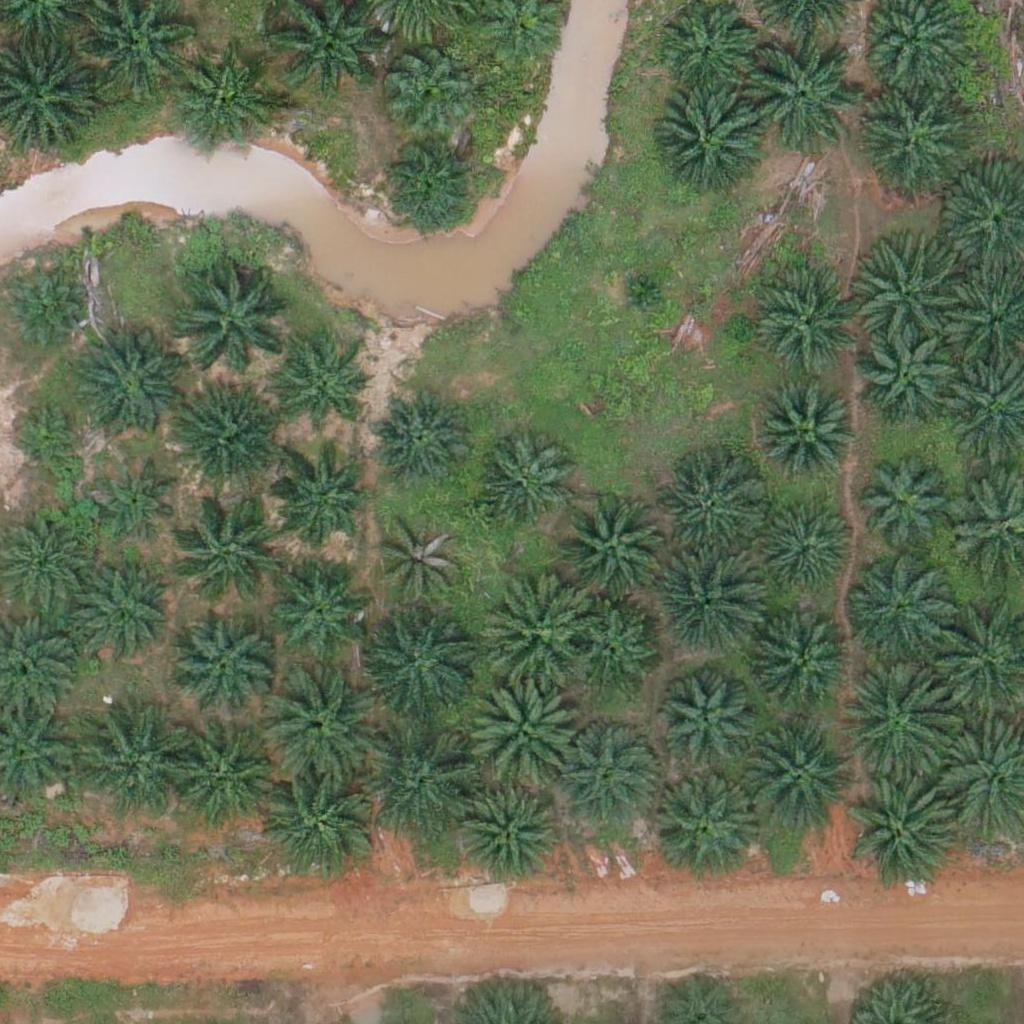Kelapa_Sawit: (836, 667, 949, 781), (652, 768, 765, 882), (739, 720, 852, 834), (650, 89, 763, 202), (651, 547, 764, 660), (263, 768, 376, 881), (176, 258, 289, 371), (70, 331, 183, 444), (843, 551, 955, 665), (175, 489, 287, 603), (73, 706, 185, 820), (848, 778, 960, 891), (854, 80, 966, 193), (854, 228, 966, 341), (742, 37, 854, 150), (556, 491, 668, 604), (479, 574, 591, 687), (466, 672, 578, 785), (368, 727, 480, 840), (364, 606, 476, 719), (262, 668, 374, 781), (163, 725, 275, 838), (166, 386, 278, 499), (855, 456, 955, 557), (856, 326, 956, 427), (657, 677, 757, 778), (558, 721, 658, 822), (472, 432, 572, 533), (268, 452, 368, 553), (170, 614, 270, 715), (70, 565, 170, 666), (757, 277, 857, 377), (758, 386, 858, 486), (758, 502, 858, 602), (754, 618, 854, 718), (660, 462, 760, 562), (457, 784, 557, 884), (378, 134, 478, 234), (369, 387, 469, 487), (268, 556, 368, 656), (175, 55, 275, 155), (568, 605, 656, 693), (382, 41, 470, 129), (93, 459, 181, 547), (378, 518, 465, 606), (280, 348, 367, 436), (10, 398, 85, 473), (615, 264, 665, 315)
